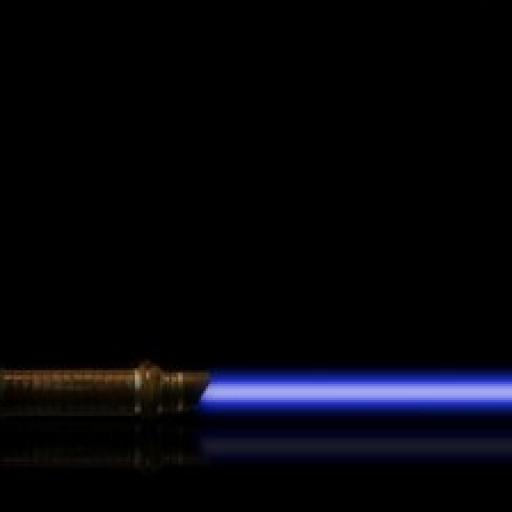lightsaber: (1, 360, 512, 428)
